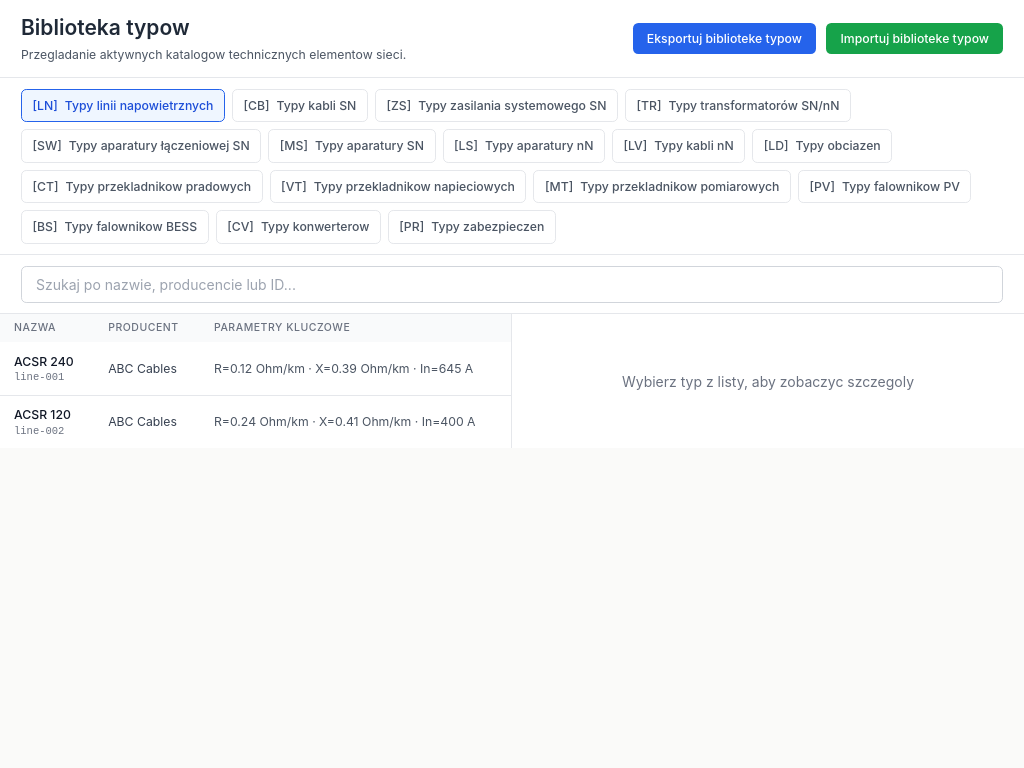
Scenario: TypeLibraryBrowser › resets search and details when switching tabs
Expected: the text "ACSR 240" is shown, [14,352,80,370]
Type "240" into the field with placeholder "Szukaj po nazwie, producencie lub ID..." at {"x": 512, "y": 284}, box [21,266,1003,302]
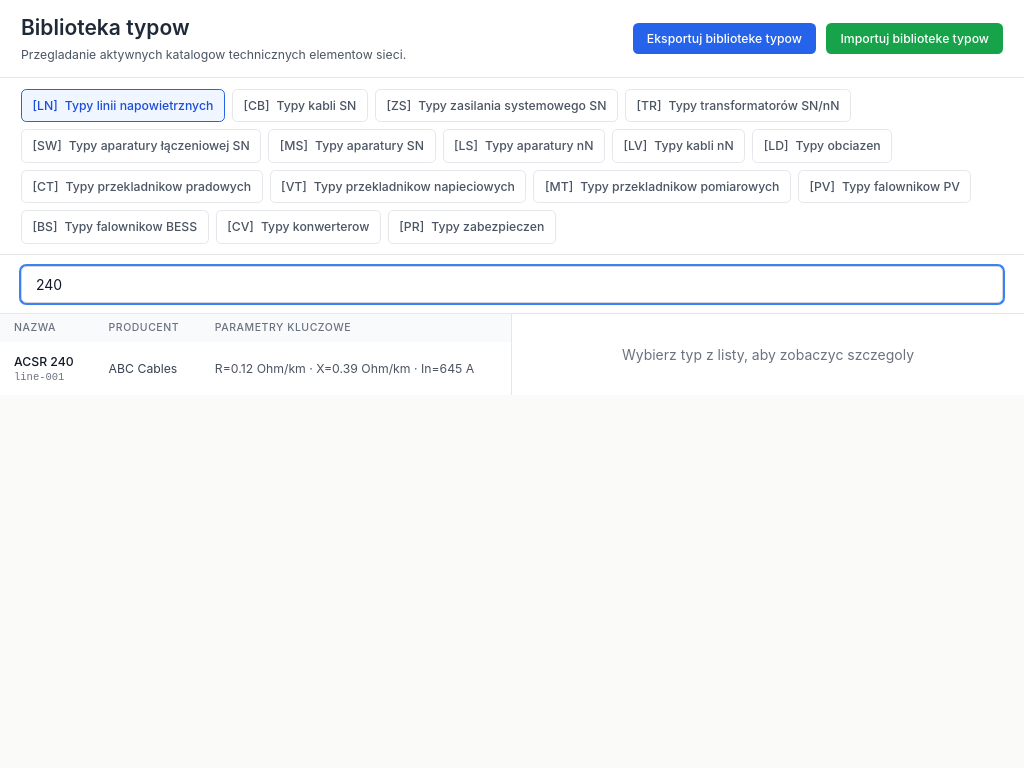
Click the text "ACSR 240" at {"x": 47, "y": 361}, box [14,352,81,370]
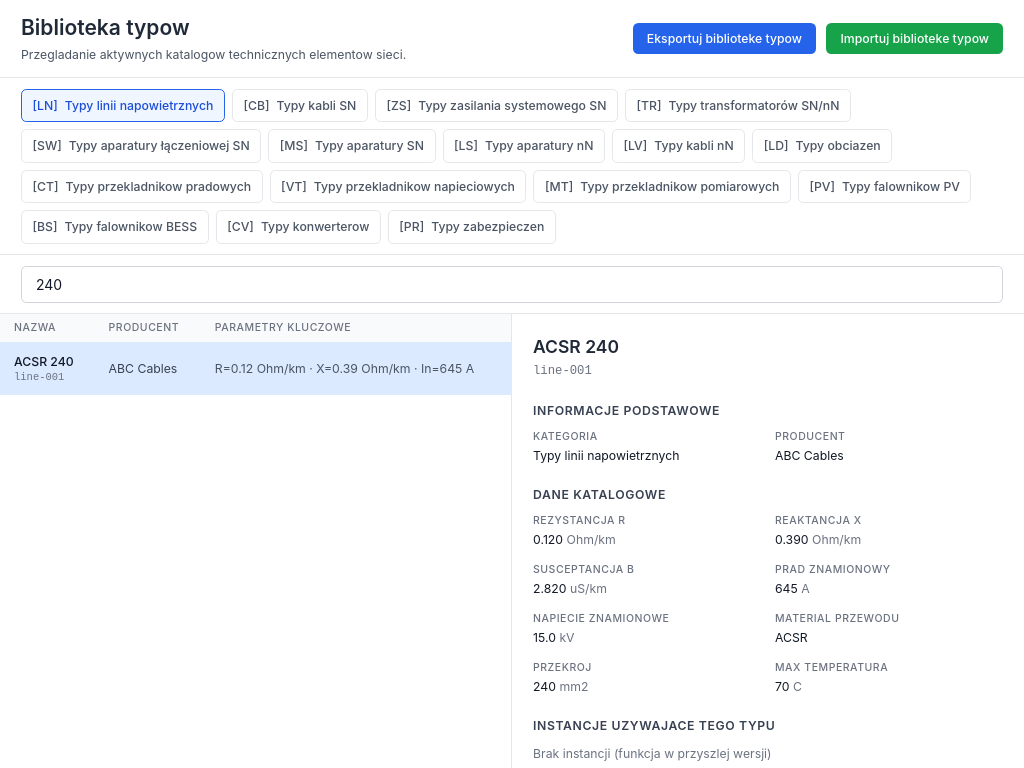
Now the heading "Dane katalogowe" is shown, box [533,486,666,502]
Click the button "[CB]Typy kabli SN" at {"x": 300, "y": 105}, box [232,88,368,122]
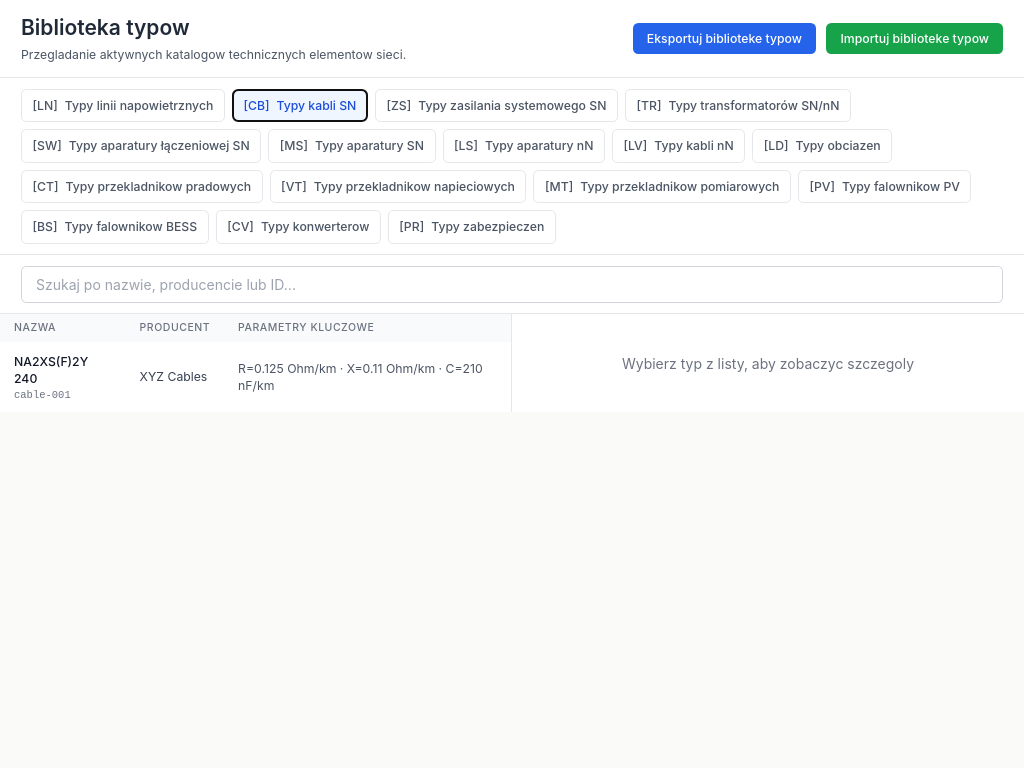
Now the field with placeholder "Szukaj po nazwie, producencie lub ID..." is empty, box [21,266,1003,302]
Now the text "Wybierz typ z listy, aby zobaczyc szczegoly" is shown, box [622,354,914,372]
